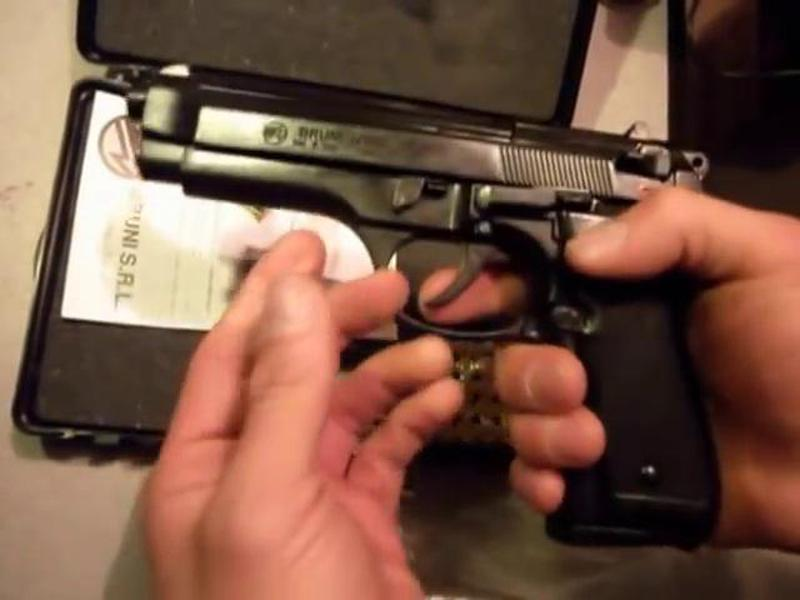Pistola: (121, 50, 749, 544)
